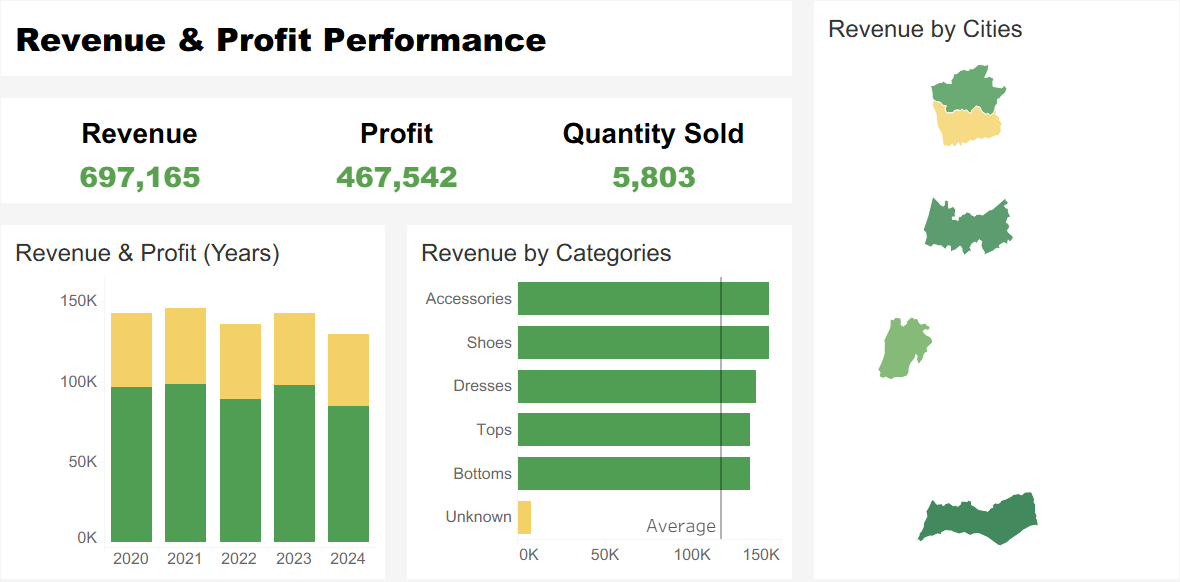

The page's visual inventory and layout, read from the dashboard file:
{"tool":"tableau","page":{"name":"Revenue & Profit Performance","canvas":[1200,600],"ordinal":2},"visuals":[{"type":"text","box":[0,0,813,97]},{"type":"worksheet","title":"Revenue by Cities","mark":"Multipolygon","box":[813,0,387,600]},{"type":"legend","title":"Revenue by Cities","param":"[federated.07ua3ch0kyjr3q115o6q61264kej].[sum:revenue:qk]","box":[1032,8,160,81]},{"type":"legend","title":"Revenue & Profit (Years)","param":"[federated.07ua3ch0kyjr3q115o6q61264kej].[:Measure Names]","box":[1032,89,160,84]},{"type":"worksheet","title":"KPIs","mark":"Automatic","box":[0,97,813,127]},{"type":"legend","title":"Revenue by Categories","param":"[federated.07ua3ch0kyjr3q115o6q61264kej].[usr:Calculation_0724615958822912:nk:1]","box":[1032,173,160,84]},{"type":"worksheet","title":"Revenue & Profit (Years)","mark":"Automatic","rows":["revenue","profit"],"cols":["date"],"box":[0,224,406.5,376]},{"type":"worksheet","title":"Revenue by Categories","mark":"Automatic","rows":["products_category"],"cols":["revenue"],"box":[406.5,224,406.5,376]}]}

Visuals, with their boxes in screenshot pixels (x1, y1, x2, y2), scaled from the page's 1200x600 canvas onto the 1180x582 screenshot:
text: 0, 0, 799, 94
"Revenue by Cities" worksheet (Multipolygon marks): 799, 0, 1179, 581
"Revenue by Cities" legend: 1015, 8, 1172, 86
"Revenue & Profit (Years)" legend: 1015, 86, 1172, 168
"KPIs" worksheet: 0, 94, 799, 217
"Revenue by Categories" legend: 1015, 168, 1172, 249
"Revenue & Profit (Years)" worksheet: 0, 217, 400, 581
"Revenue by Categories" worksheet: 400, 217, 799, 581
